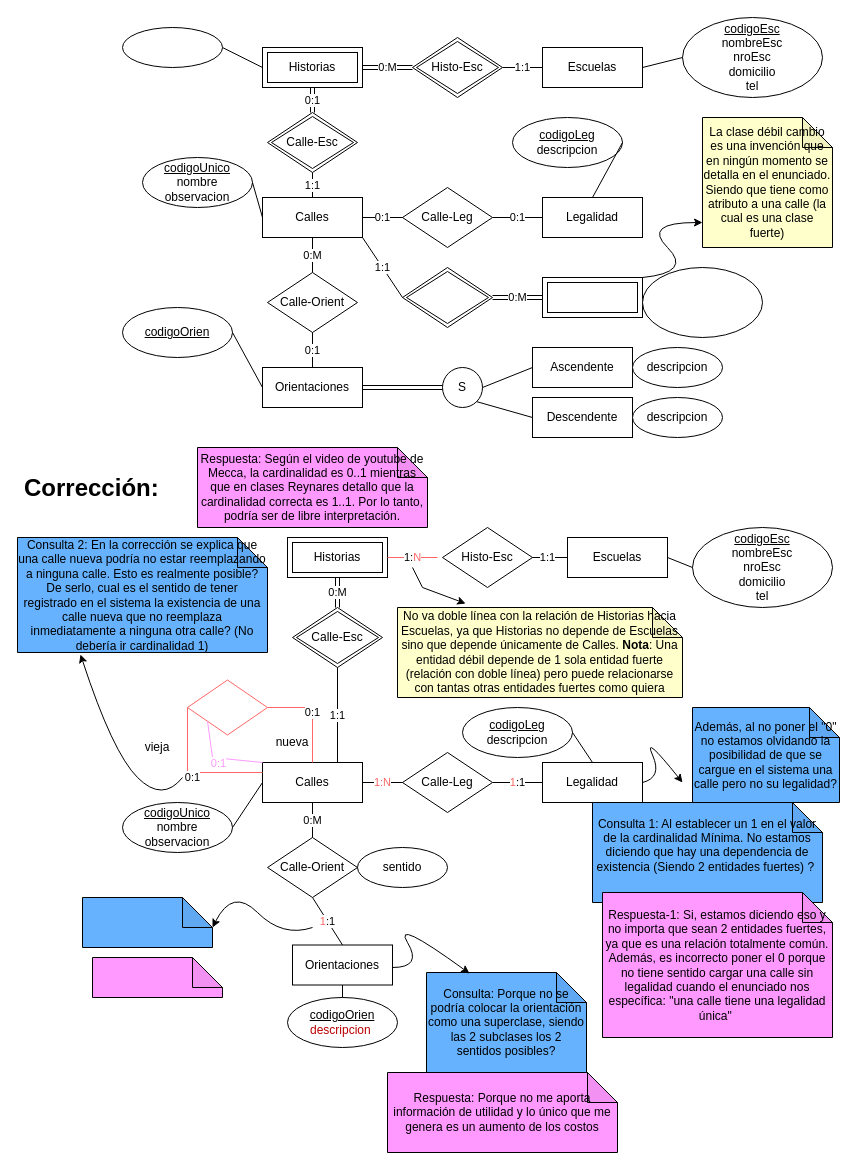
This 857x1170 diagram has some shape labels left out. The shapes that lost their labels are listed below. From the top down, each one's centre as x and y in pixels, then its label:
the point at 172,47: numero descripcion
the point at 447,297: Cambio-Calle
the point at 592,297: Cambio
the point at 702,302: fechaDesde calleNuev ordenanza fechaBaja
the point at 227,707: Reemplaza
the point at 147,922: Consulta: 1
the point at 157,977: Respuesta dada
